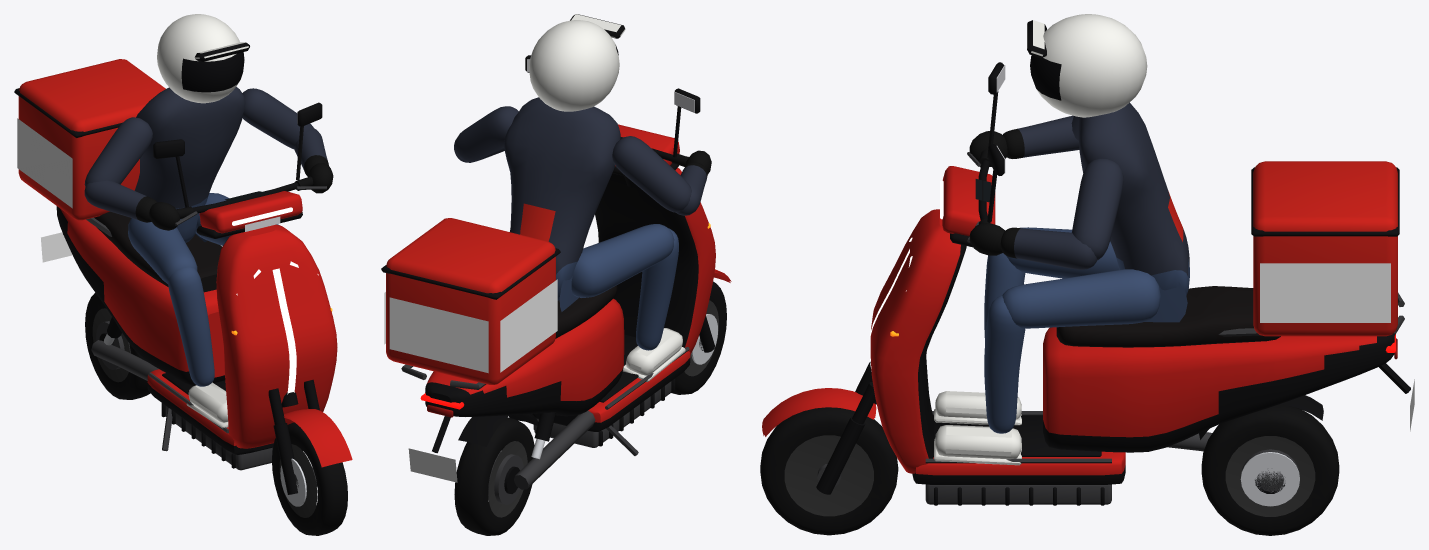
Rendered from bike_volt.glb.
The picture shows the model from 3 angles, left to right: view 1: azimuth 30°, elevation 25°; view 2: azimuth 150°, elevation 25°; view 3: azimuth 270°, elevation 25°; orthographic projection. The views are drawn at different scales.
Visible parts, largest first — view 1: volt_body, steer_mesh, rider_body, rider_head, wheel_front, rider_shin_L, wheel_rear, rider_uarm_L, rider_farm_L, rider_thigh_L, rider_uarm_R, rider_farm_R (+1 smaller); view 2: volt_body, rider_body, rider_head, wheel_rear, rider_thigh_L, rider_shin_L, rider_uarm_L, steer_mesh, wheel_front, rider_uarm_R, rider_farm_L; view 3: volt_body, wheel_rear, wheel_front, rider_body, rider_head, steer_mesh, rider_thigh_R, rider_shin_R, rider_farm_R, rider_uarm_R, rider_shin_L, rider_farm_L (+1 smaller).
Part boxes in pixels (bbox=[...]): volt_body: bbox=[14, 59, 337, 470]; steer_mesh: bbox=[153, 102, 352, 494]; rider_body: bbox=[134, 87, 245, 242]; rider_head: bbox=[157, 14, 249, 103]; wheel_front: bbox=[272, 422, 347, 535]; rider_shin_L: bbox=[168, 267, 228, 428]; wheel_rear: bbox=[85, 292, 150, 399]; rider_uarm_L: bbox=[84, 117, 152, 186]; rider_farm_L: bbox=[84, 180, 179, 230]; rider_thigh_L: bbox=[128, 218, 197, 283]; rider_uarm_R: bbox=[242, 88, 314, 149]; rider_farm_R: bbox=[294, 128, 333, 193]; volt_body: bbox=[381, 167, 715, 489]; rider_body: bbox=[504, 97, 620, 311]; rider_head: bbox=[529, 14, 625, 111]; wheel_rear: bbox=[454, 417, 534, 535]; rider_thigh_L: bbox=[571, 224, 674, 297]; rider_shin_L: bbox=[623, 228, 685, 381]; rider_uarm_L: bbox=[612, 136, 691, 212]; steer_mesh: bbox=[525, 55, 731, 352]; wheel_front: bbox=[672, 281, 726, 394]; rider_uarm_R: bbox=[454, 106, 518, 161]; rider_farm_L: bbox=[676, 150, 711, 215]; volt_body: bbox=[869, 161, 1414, 505]; wheel_rear: bbox=[1201, 404, 1339, 535]; wheel_front: bbox=[760, 407, 898, 535]; rider_body: bbox=[1078, 102, 1189, 322]; rider_head: bbox=[1027, 14, 1147, 117]; steer_mesh: bbox=[762, 62, 1005, 494]; rider_thigh_R: bbox=[1002, 269, 1160, 328]; rider_shin_R: bbox=[934, 295, 1025, 465]; rider_farm_R: bbox=[969, 223, 1097, 269]; rider_uarm_R: bbox=[1072, 158, 1123, 260]; rider_shin_L: bbox=[934, 253, 1025, 425]; rider_farm_L: bbox=[969, 115, 1079, 166].
Size of the model in its own units: 0.93 by 1.64 by 1.9.
